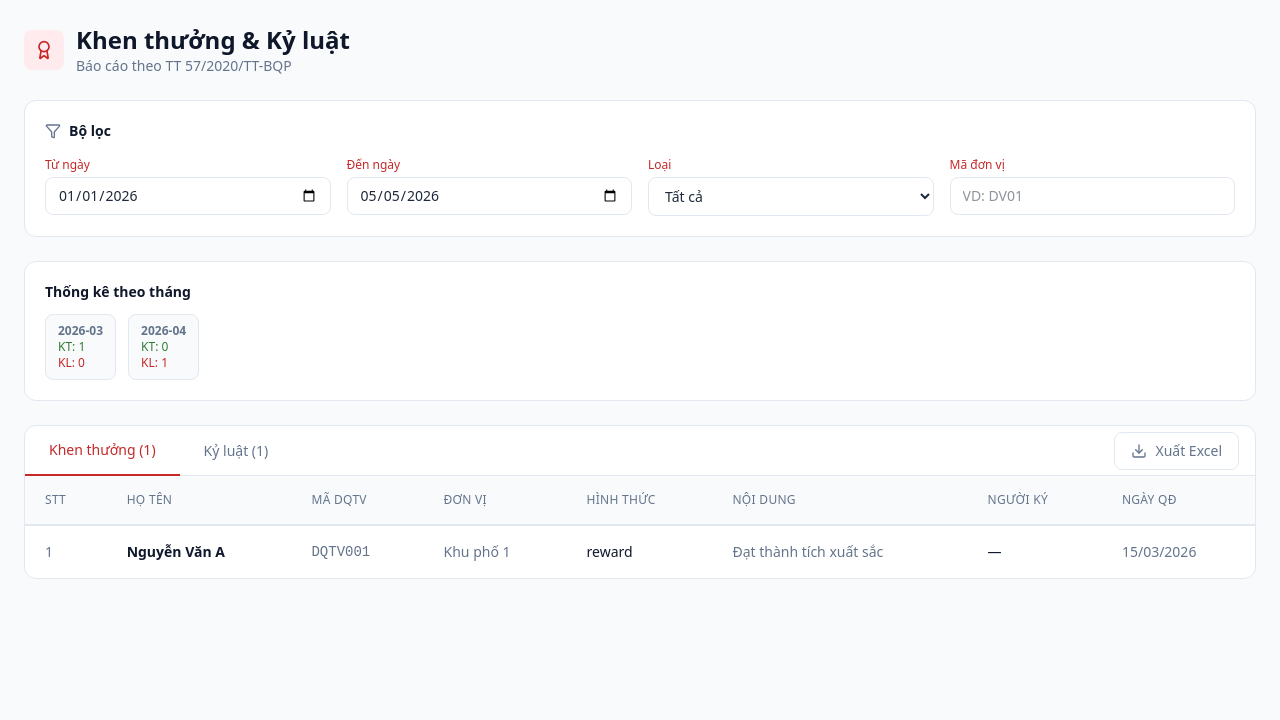
it: RewardsDisciplineReportPage › switches to kỷ luật tab and shows discipline data
Expected: the text "Nguyễn Văn A" is shown, [107, 525, 291, 578]
Find the tab button specifically (not the heading or filter option)
Click the button "Kỷ luật (1)" at [236, 450], box [180, 426, 292, 475]
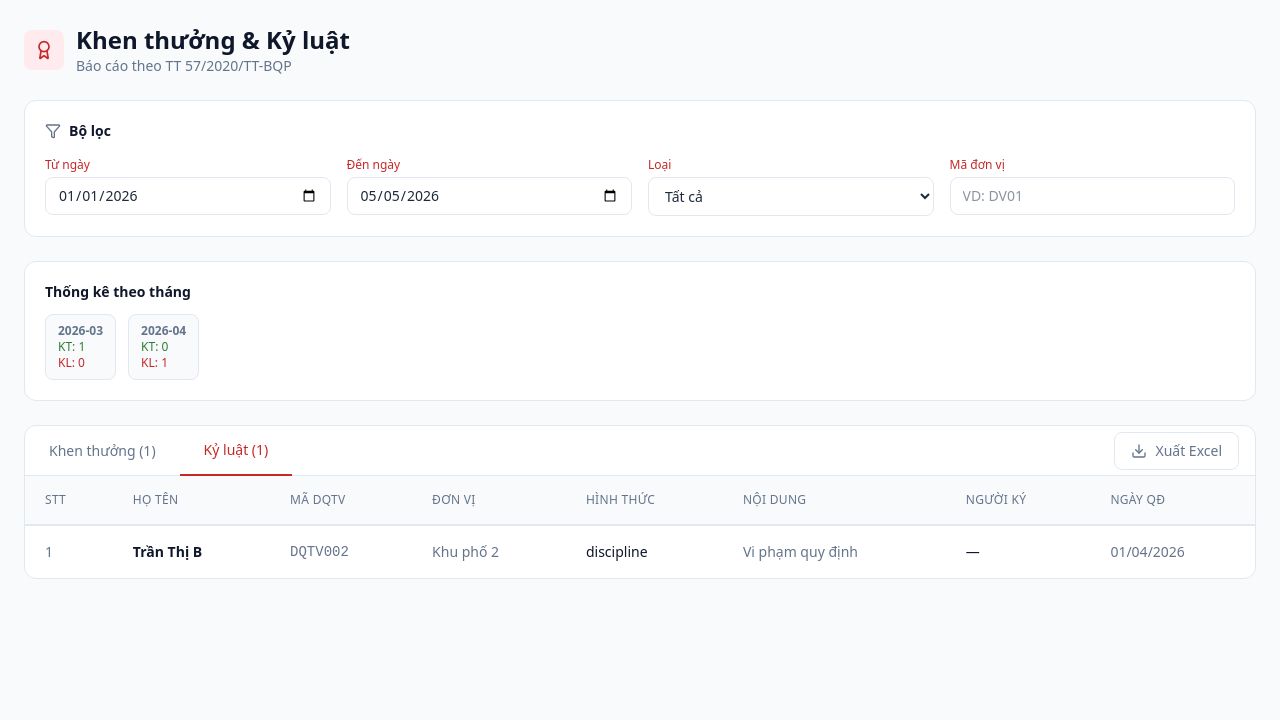
Expected: the text "Trần Thị B" is shown, [113, 525, 270, 578]
